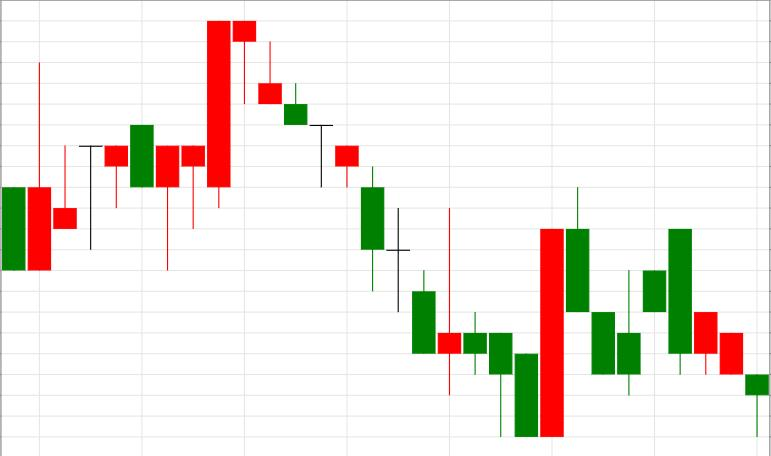bullish_engulfing_rise: (361, 166, 564, 437)
hammer_rise: (643, 229, 769, 437)
hanging_man_fall: (54, 21, 256, 270)
